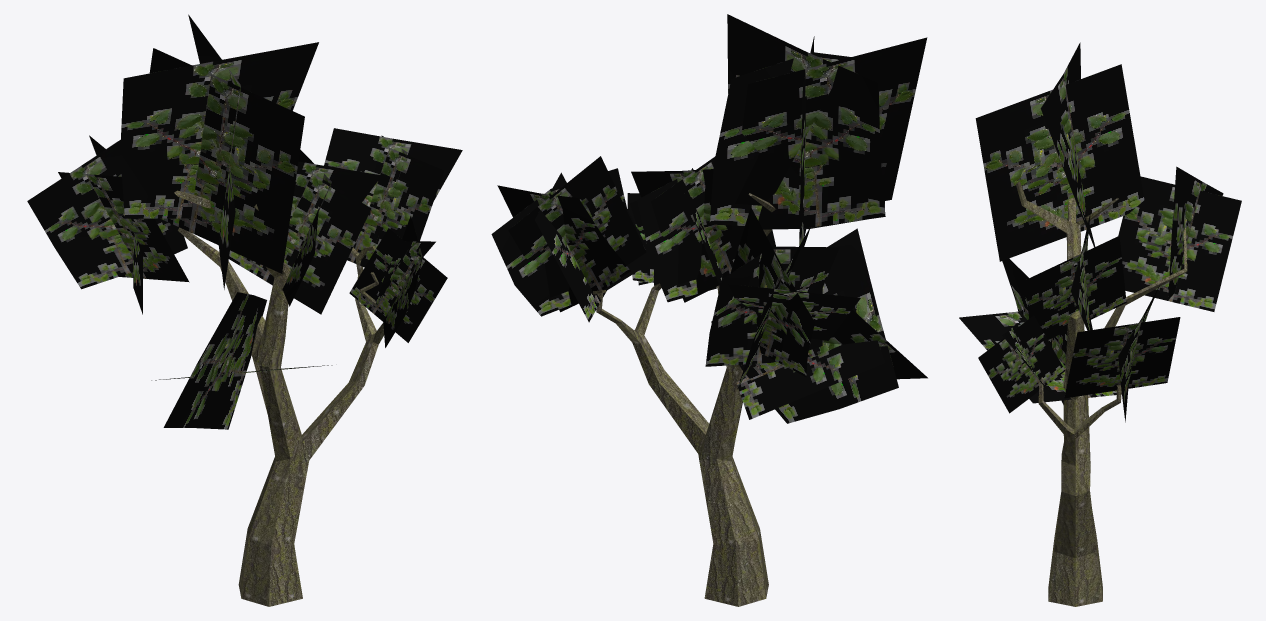
The model's file is tree-op1.glb.
3 views of the same model, side by side, from view 1: azimuth 30°, elevation 25°; view 2: azimuth 150°, elevation 25°; view 3: azimuth 270°, elevation 25° (orthographic). The views are drawn at different scales.
Visible parts, largest first — view 1: Leaves, Tree; view 2: Leaves, Tree; view 3: Leaves, Tree.
Boxes of the visible parts, <box> form: Leaves: <box>27,14,462,429</box>; Tree: <box>174,190,384,606</box>; Leaves: <box>491,14,927,423</box>; Tree: <box>593,193,775,606</box>; Leaves: <box>959,42,1241,422</box>; Tree: <box>1016,181,1187,606</box>.
Bounding box in the file's own units: 15.42 × 20.7 × 10.83.
2 materials, 2 textured.
